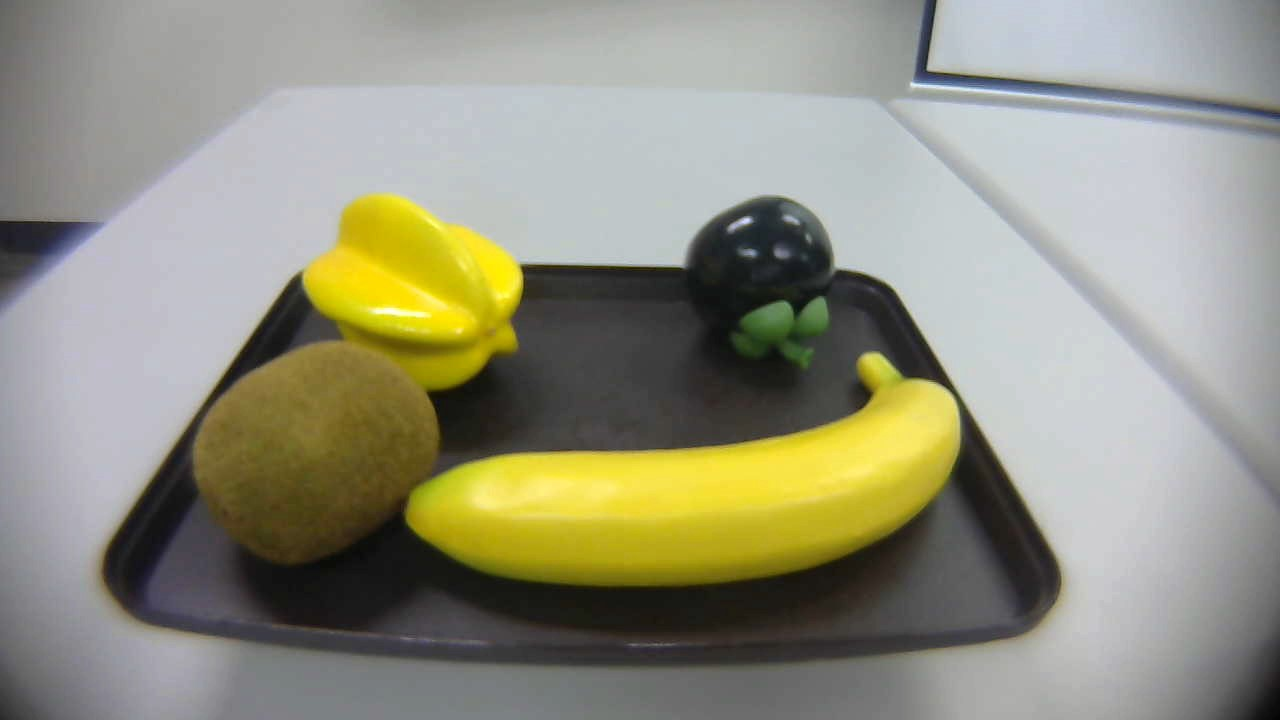banana: (408, 351, 973, 589)
kiwi fruit: (180, 333, 437, 566)
mangosteen: (686, 196, 847, 381)
star fruit: (292, 186, 532, 408)
